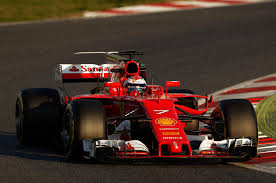f1_car: (10, 46, 264, 171)
